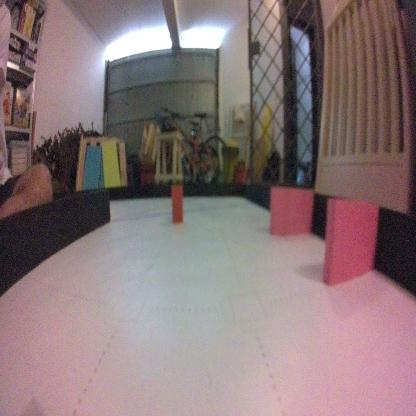magenta: (319, 191, 378, 291), (266, 181, 314, 238)
red: (169, 175, 187, 230)
